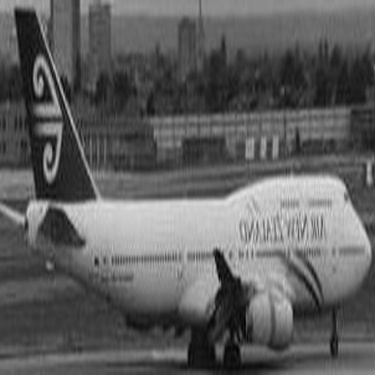airplane: (1, 5, 370, 369)
